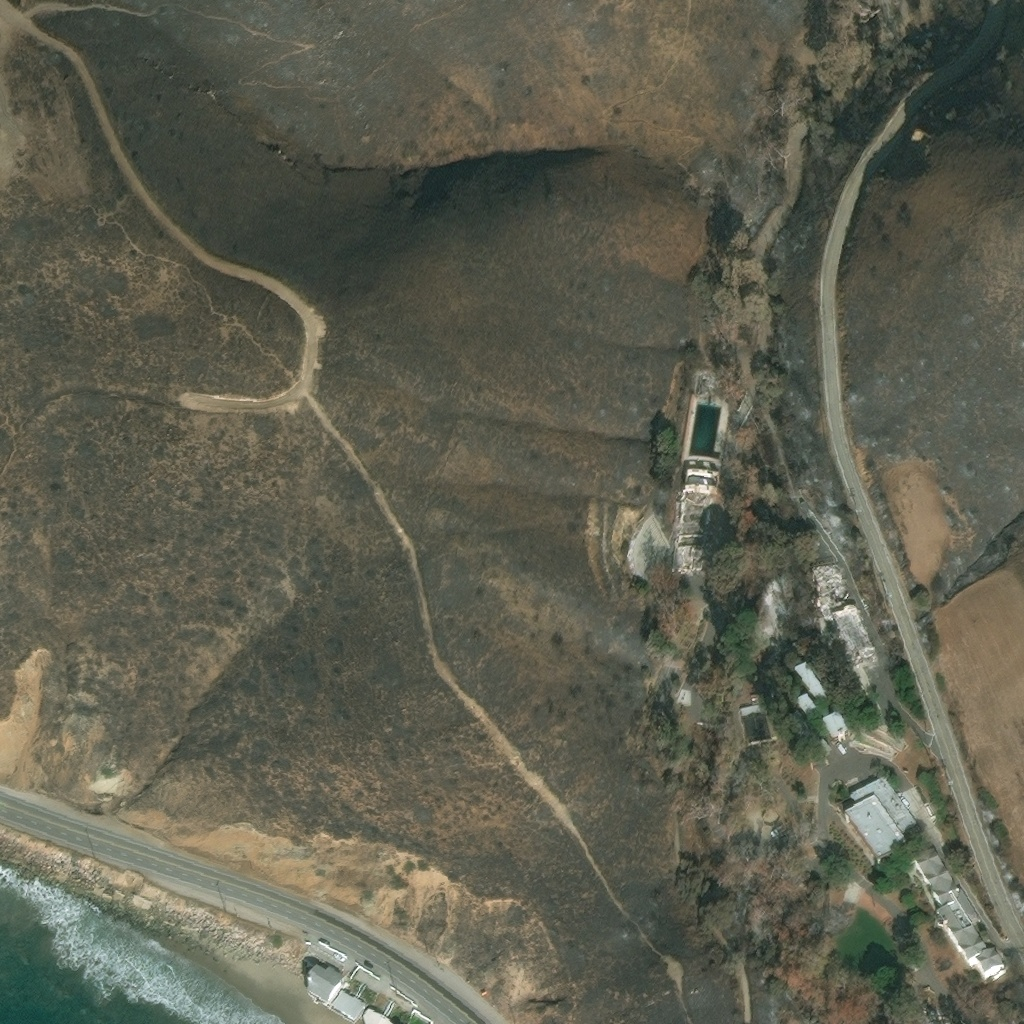0 no-damage: (908, 836, 986, 962), (842, 773, 924, 860), (781, 710, 831, 764), (305, 964, 344, 1005), (793, 663, 827, 702), (328, 990, 365, 1023), (820, 710, 849, 738), (975, 948, 1002, 974), (795, 694, 817, 715), (363, 1009, 392, 1023)
2 major-damage: (739, 704, 772, 744)
3 destroyed: (673, 469, 720, 572), (834, 603, 876, 661), (807, 558, 850, 600), (816, 589, 847, 614), (728, 311, 753, 341), (798, 499, 813, 517), (657, 663, 670, 681), (710, 822, 724, 838)
